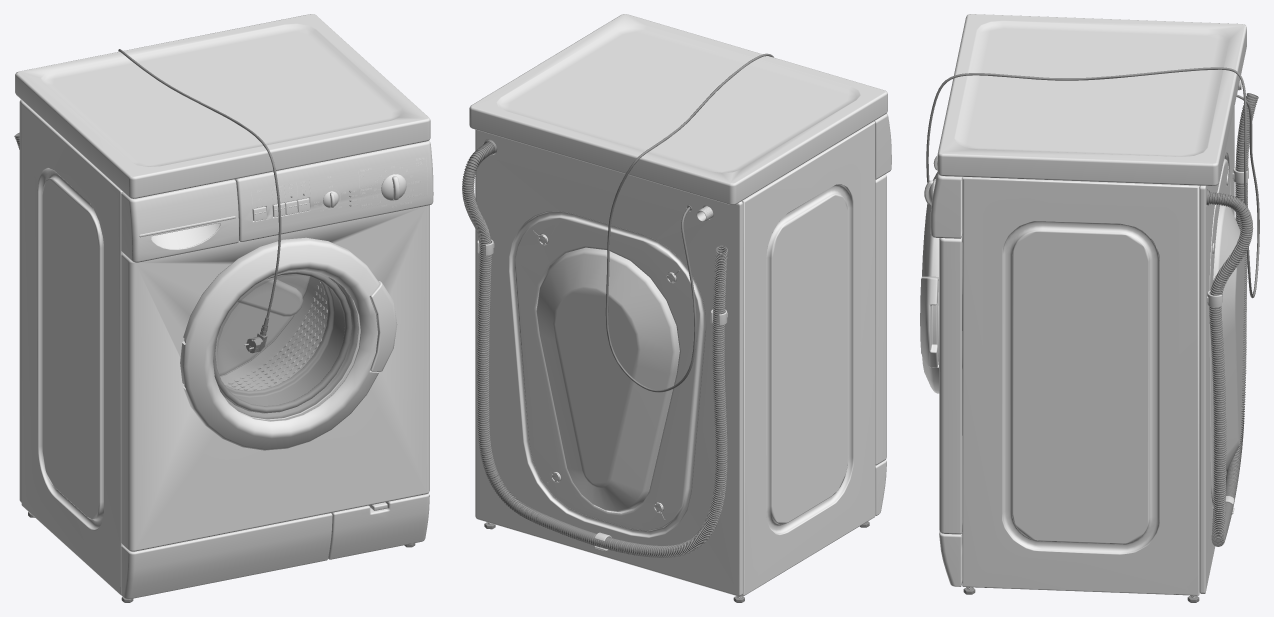
The model's file is lavarropas.glb.
3 renders of one model, left to right at view 1: azimuth 30°, elevation 25°; view 2: azimuth 150°, elevation 25°; view 3: azimuth 270°, elevation 25°, orthographic. The views are drawn at different scales.
Visible parts, largest first — view 1: polySurface132, polySurface119, polySurface135, polySurface127, polySurface118, polySurface121, polySurface140, polySurface138, polySurface131, polySurface142, polySurface134, polySurface137 (+7 smaller); view 2: polySurface145, polySurface135, polySurface119, pCylinder1035, pCylinder1025, polySurface132, pCylinder1039, polySurface131; view 3: polySurface135, polySurface119, pCylinder1025, polySurface132, polySurface145, pCylinder1035, pCylinder1039, polySurface121, polySurface117, polySurface127, polySurface142.
Part boxes in pixels (<box>): polySurface132: <box>121,205,429,551</box>; polySurface119: <box>15,14,430,198</box>; polySurface135: <box>21,101,122,594</box>; polySurface127: <box>180,237,379,450</box>; polySurface118: <box>213,271,359,420</box>; polySurface121: <box>235,140,433,241</box>; polySurface140: <box>121,513,332,599</box>; polySurface138: <box>213,271,358,419</box>; polySurface131: <box>121,179,238,262</box>; polySurface142: <box>328,493,429,559</box>; polySurface134: <box>215,274,309,375</box>; polySurface137: <box>220,276,327,390</box>; polySurface145: <box>475,129,742,596</box>; polySurface135: <box>741,121,875,595</box>; polySurface119: <box>469,14,887,205</box>; pCylinder1035: <box>536,247,679,511</box>; pCylinder1025: <box>462,142,727,557</box>; polySurface132: <box>875,174,886,465</box>; pCylinder1039: <box>605,53,773,392</box>; polySurface131: <box>874,113,891,179</box>; polySurface135: <box>962,177,1199,595</box>; polySurface119: <box>937,14,1246,185</box>; pCylinder1025: <box>1208,93,1258,546</box>; polySurface132: <box>939,235,962,534</box>; polySurface145: <box>1199,107,1234,593</box>; pCylinder1035: <box>1213,204,1244,471</box>; pCylinder1039: <box>926,67,1259,298</box>; polySurface121: <box>930,173,962,238</box>; polySurface117: <box>920,277,938,367</box>; polySurface127: <box>921,173,939,393</box>; polySurface142: <box>939,531,962,586</box>.
Size of the model in its own units: 17.37 by 23.84 by 16.43.
Materials: 9 (1 with a texture image).
